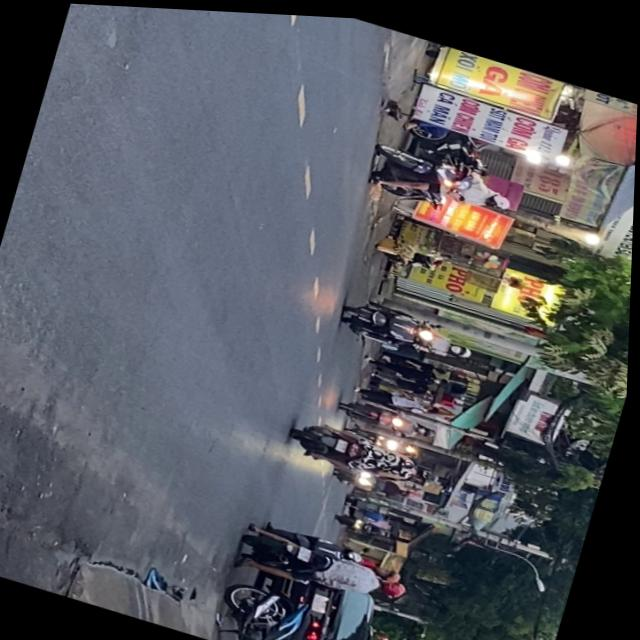helmet: (381, 571, 413, 594), (483, 183, 514, 206)
licenseplate: (237, 511, 420, 610), (362, 131, 523, 224)
nohelmet: (301, 541, 317, 557)
